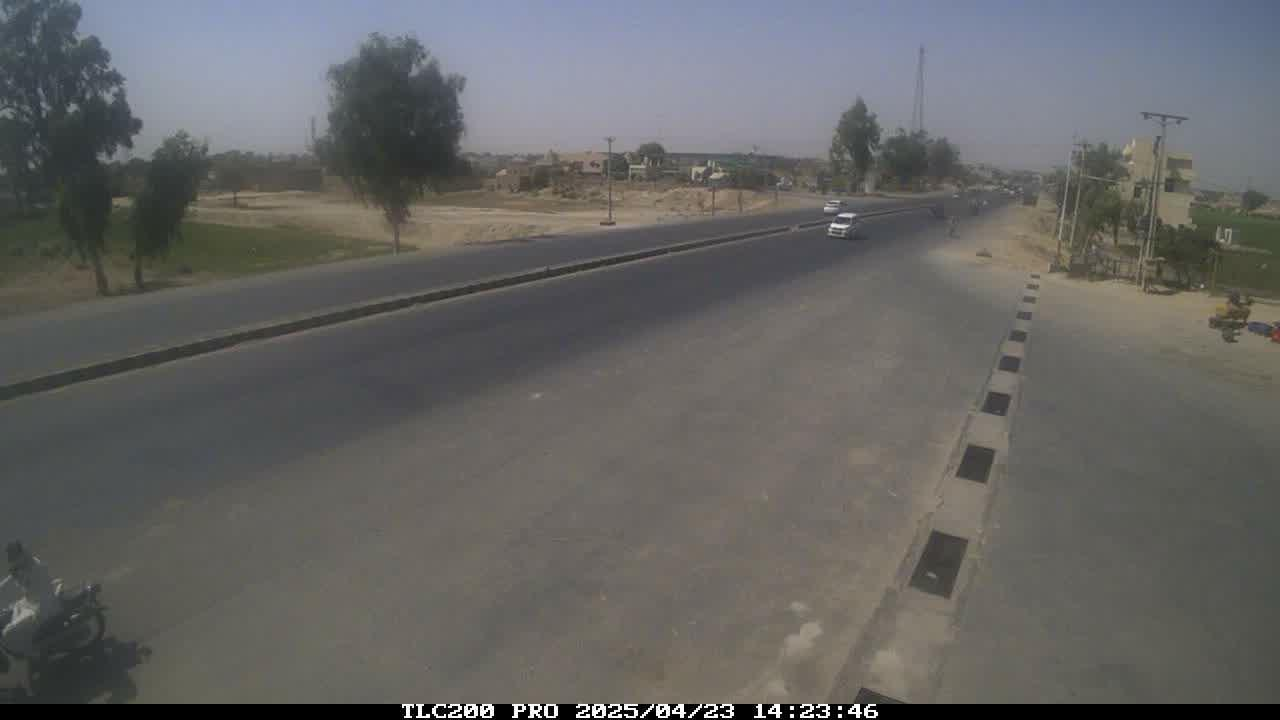car: (827, 212, 867, 240)
